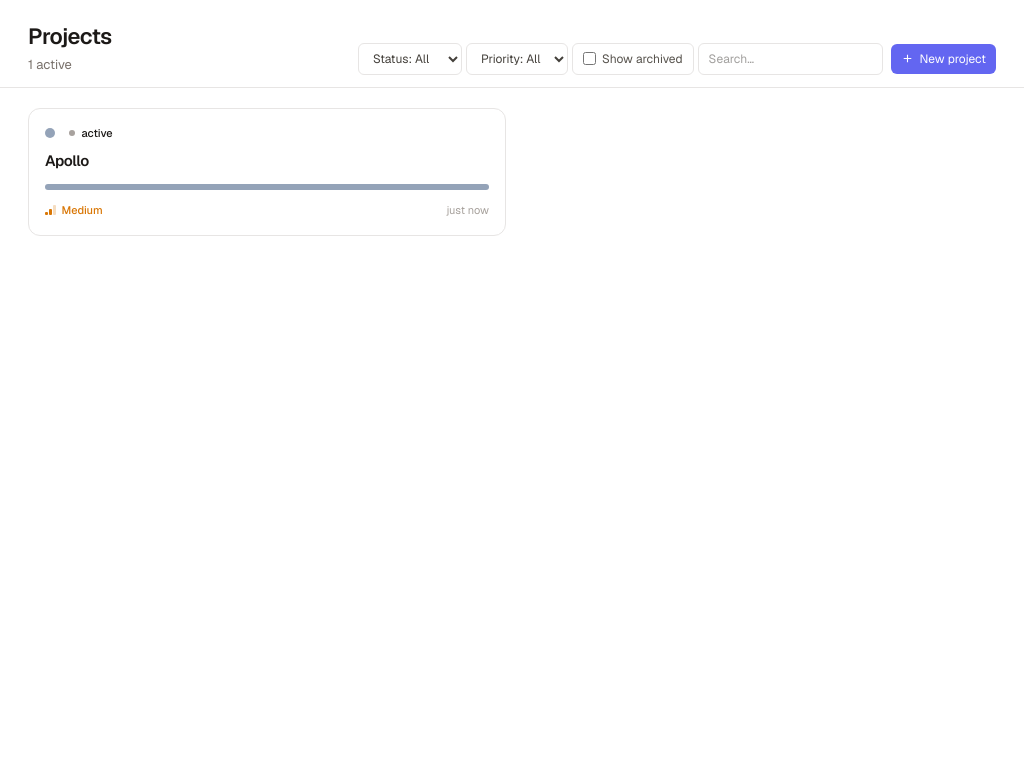
ProjectsPage's inline overlays become Modals (AC6) › opens the create overlay as a labelled dialog
expect the text "Apollo" is shown: met, box [45,150,89,170]
Click the button "New project": [943, 58] box [891,44,996,74]
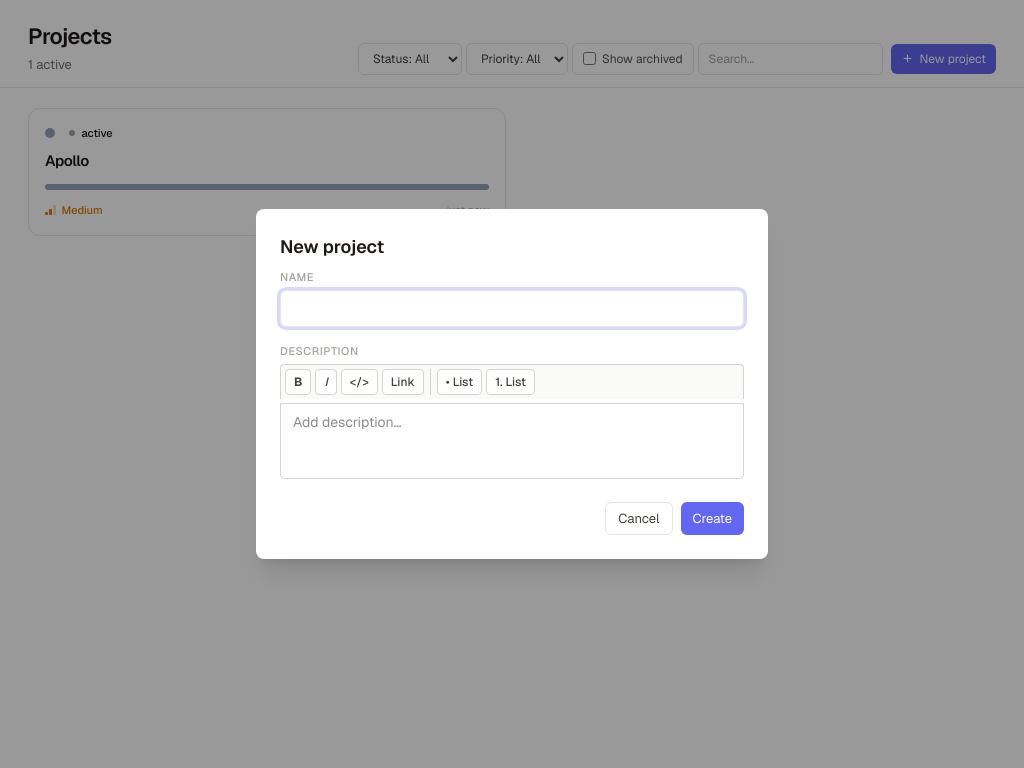
expect the button "Create" is shown: met, box [680,502,744,535]
